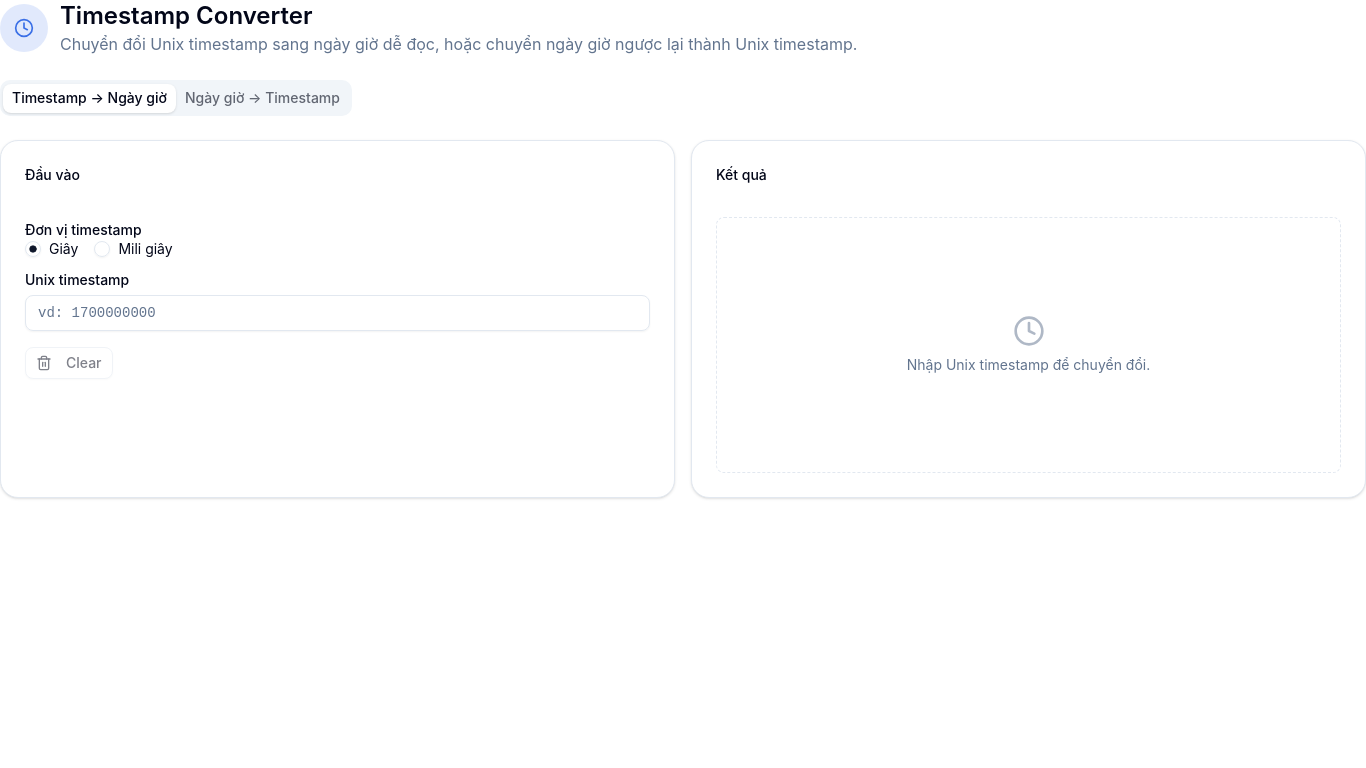
Test case: TimestampConverterScreen › disables Clear when everything is empty, and clears after confirming
Expected: the button "Clear" is disabled, top-left (25, 347), bottom-right (112, 379)
In the field labelled "Unix timestamp": (338, 313) top-left (25, 295), bottom-right (650, 331), type "0"
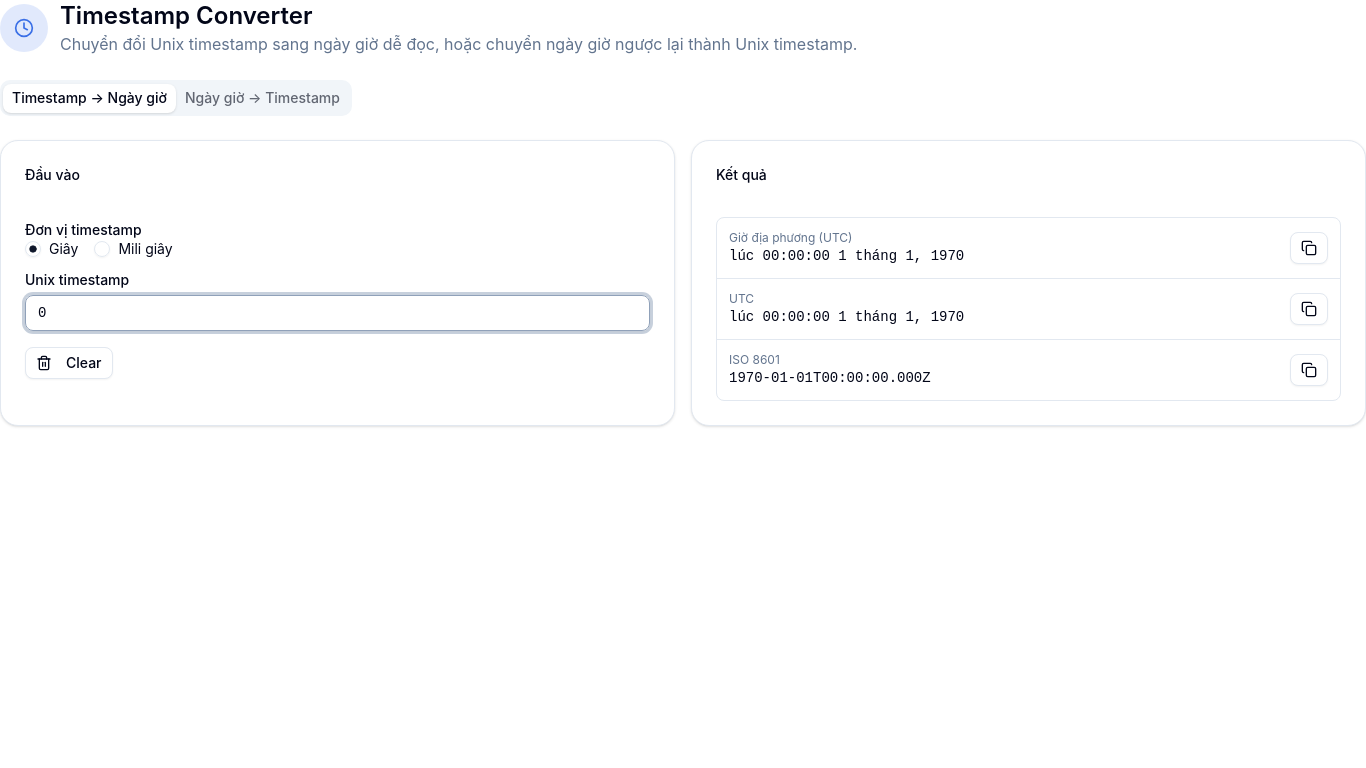
Now the button "Clear" is enabled
Click the button "Clear": (69, 363) top-left (25, 347), bottom-right (112, 379)
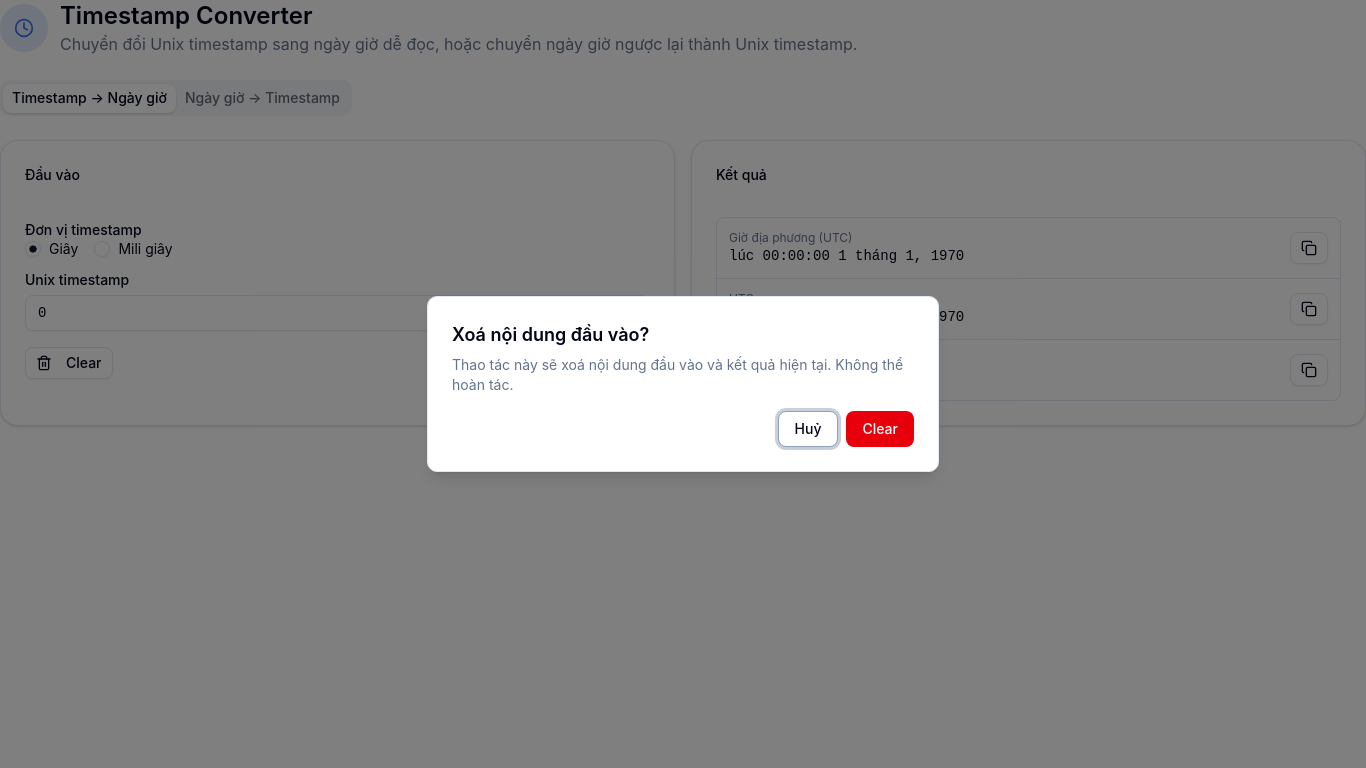
Click the button "Clear": (880, 429) top-left (846, 411), bottom-right (914, 447)
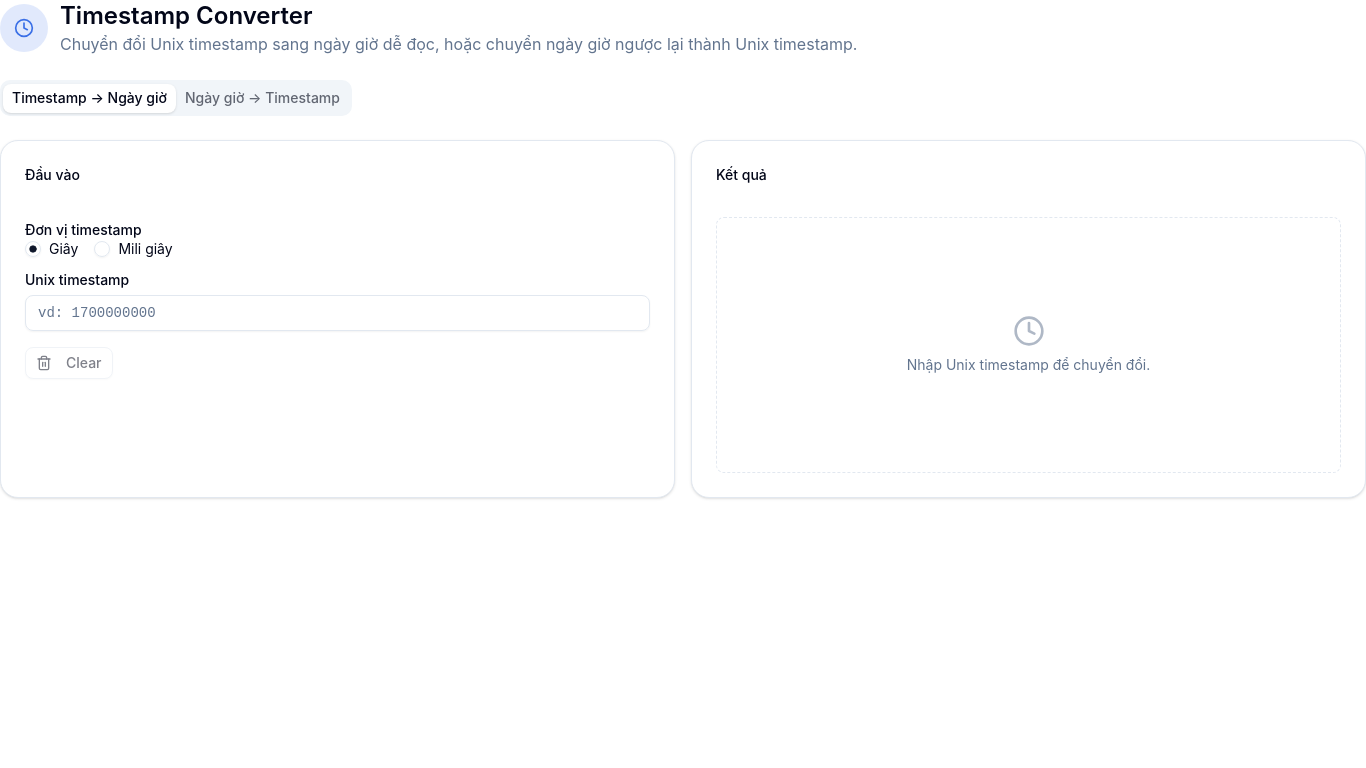
Now the field labelled "Unix timestamp" is empty, box top-left (25, 295), bottom-right (650, 331)
